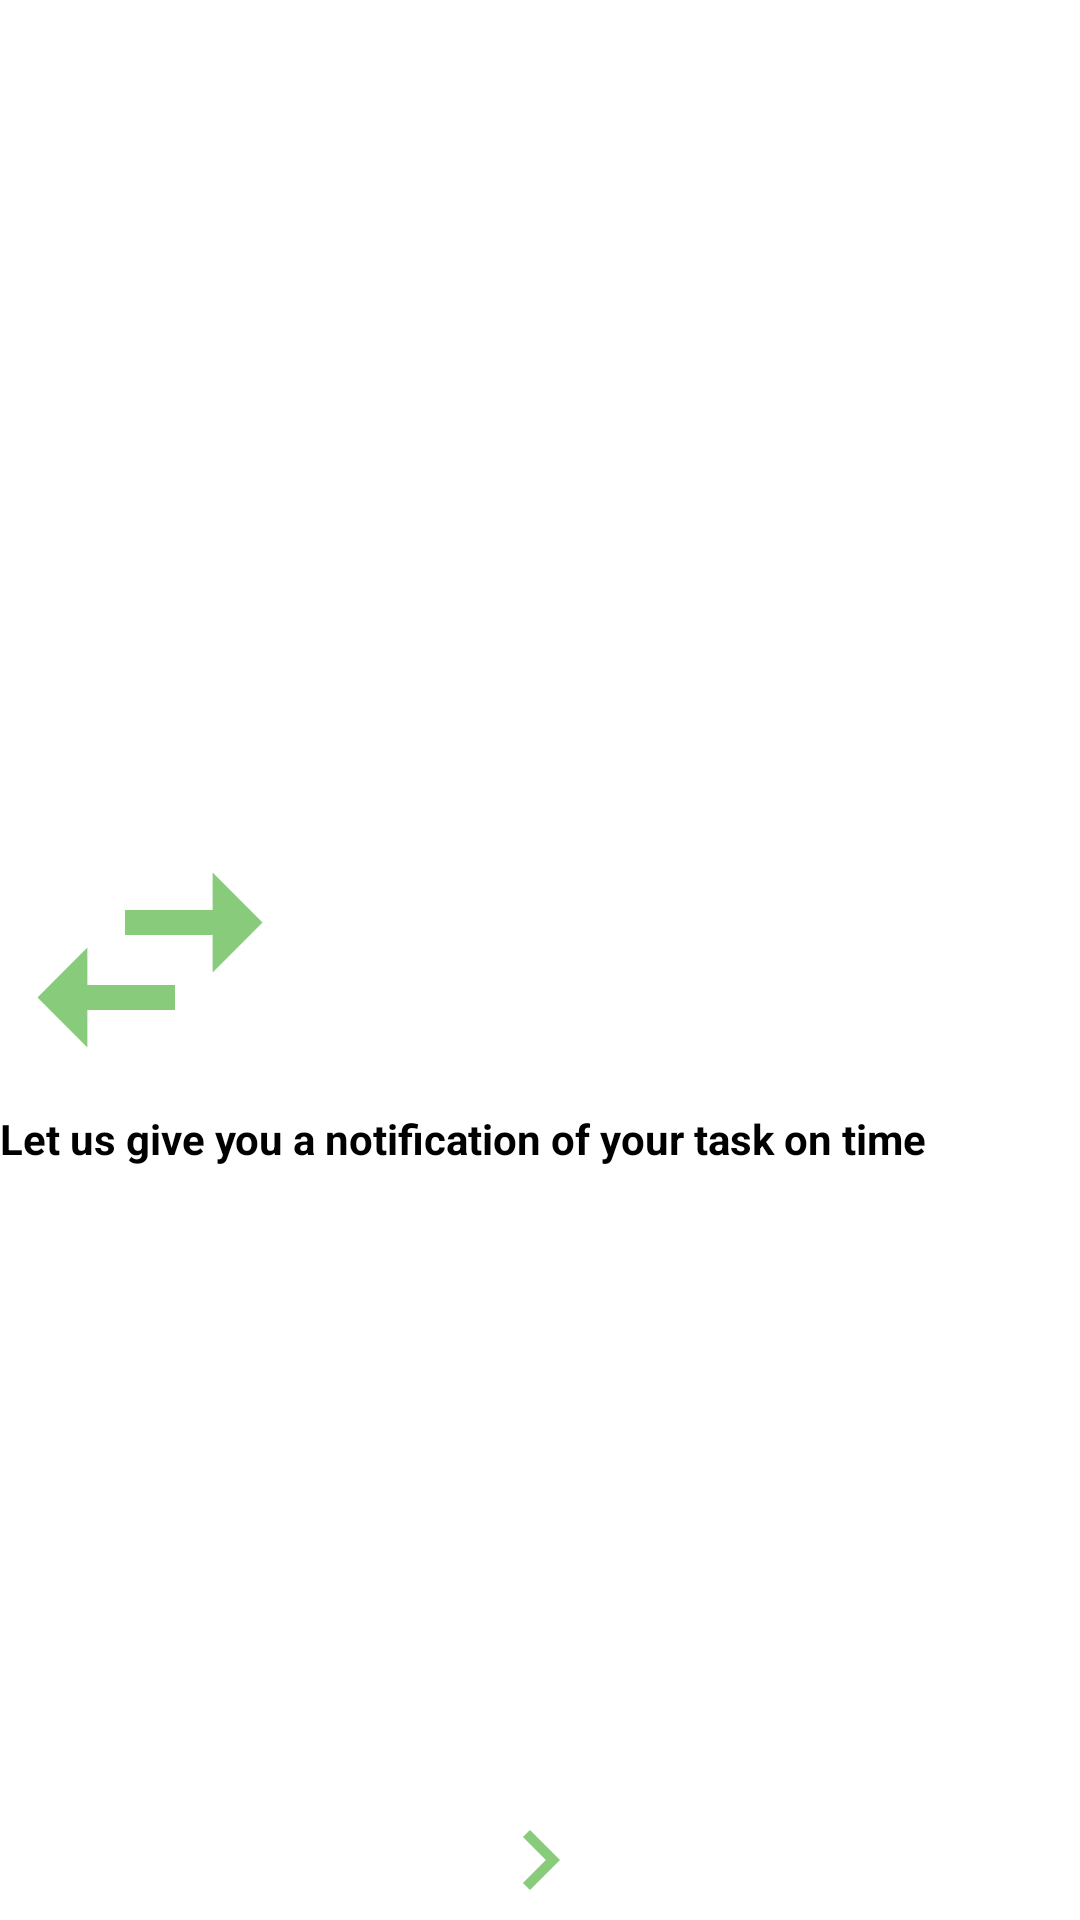

Where icons sit on this 1080w x 1920h app screen, as (x1, y1, x2, y2):
next: (523, 1830, 560, 1890)
swipe: (37, 873, 263, 1047)
